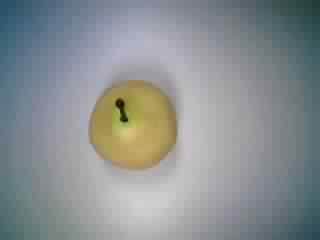pear: (81, 73, 186, 176)
